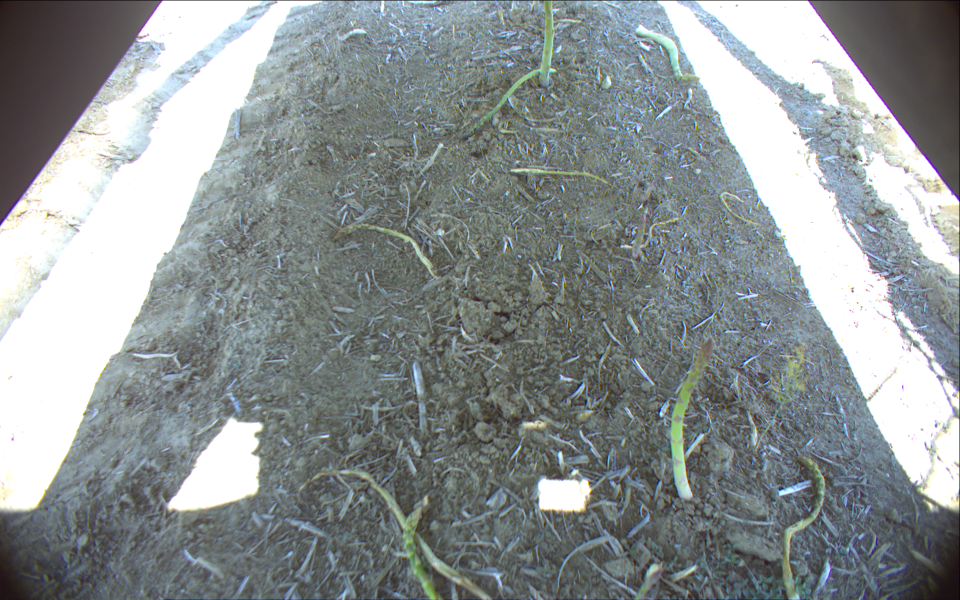aspa: (668, 336, 715, 502), (539, 1, 556, 89)
